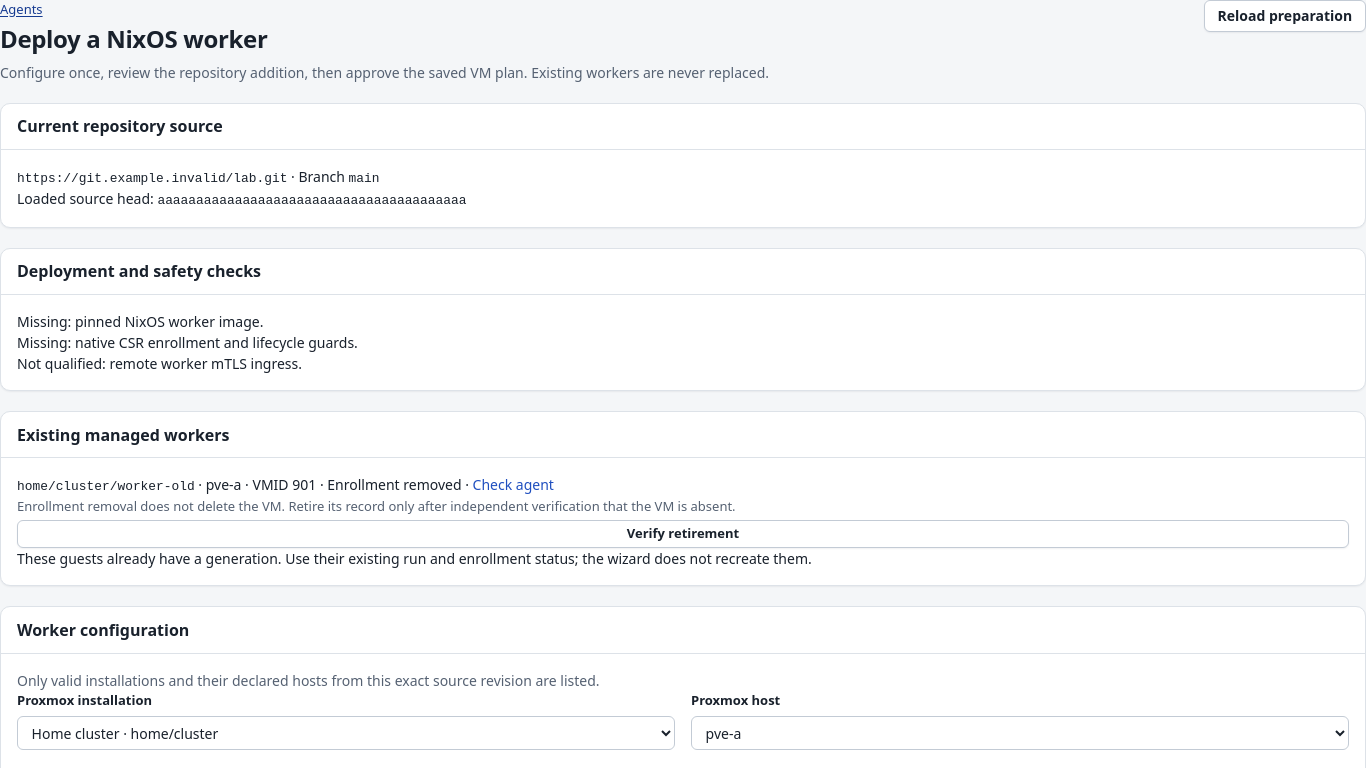
Test case: shows a refused retirement check without claiming retirement or silently retrying
The width and height of the screenshot is (1366, 768).
Click the button with aria-label "Verify retirement for home/cluster/worker-old" at (683, 534), box [17, 520, 1349, 548]
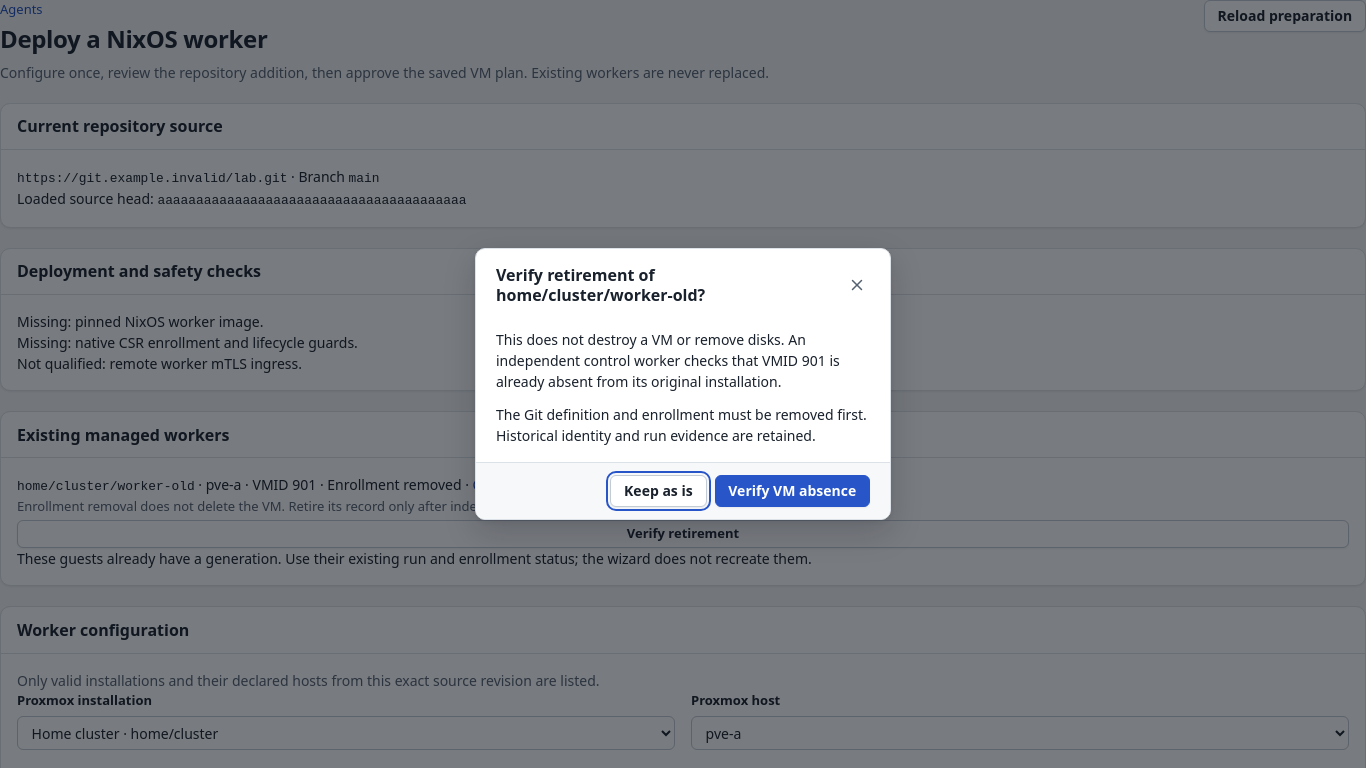
Click the button "Verify VM absence" at (792, 491), box [714, 475, 870, 507]
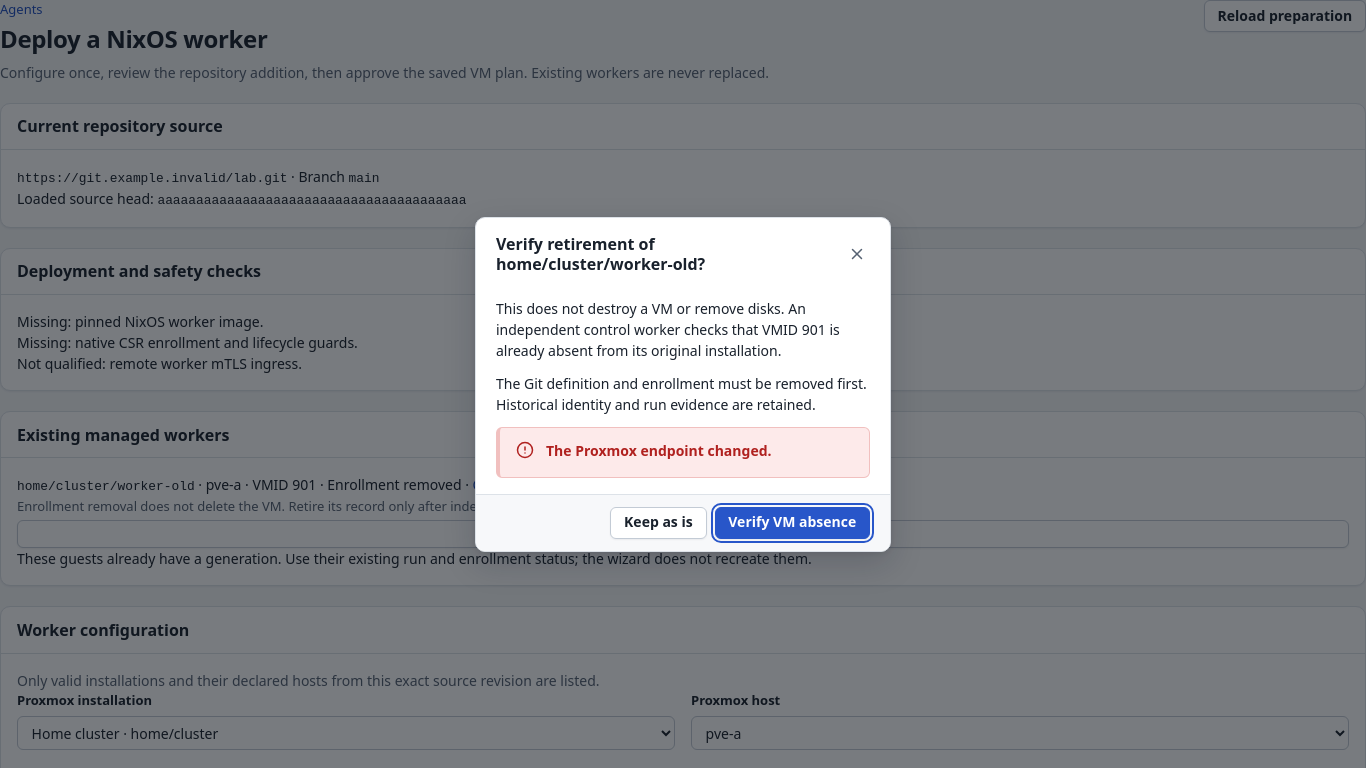
Expected: the text "home/cluster/worker-old" is shown, [17, 479, 195, 494]
Expected: the text "The Proxmox endpoint changed." is shown, [546, 440, 772, 460]
